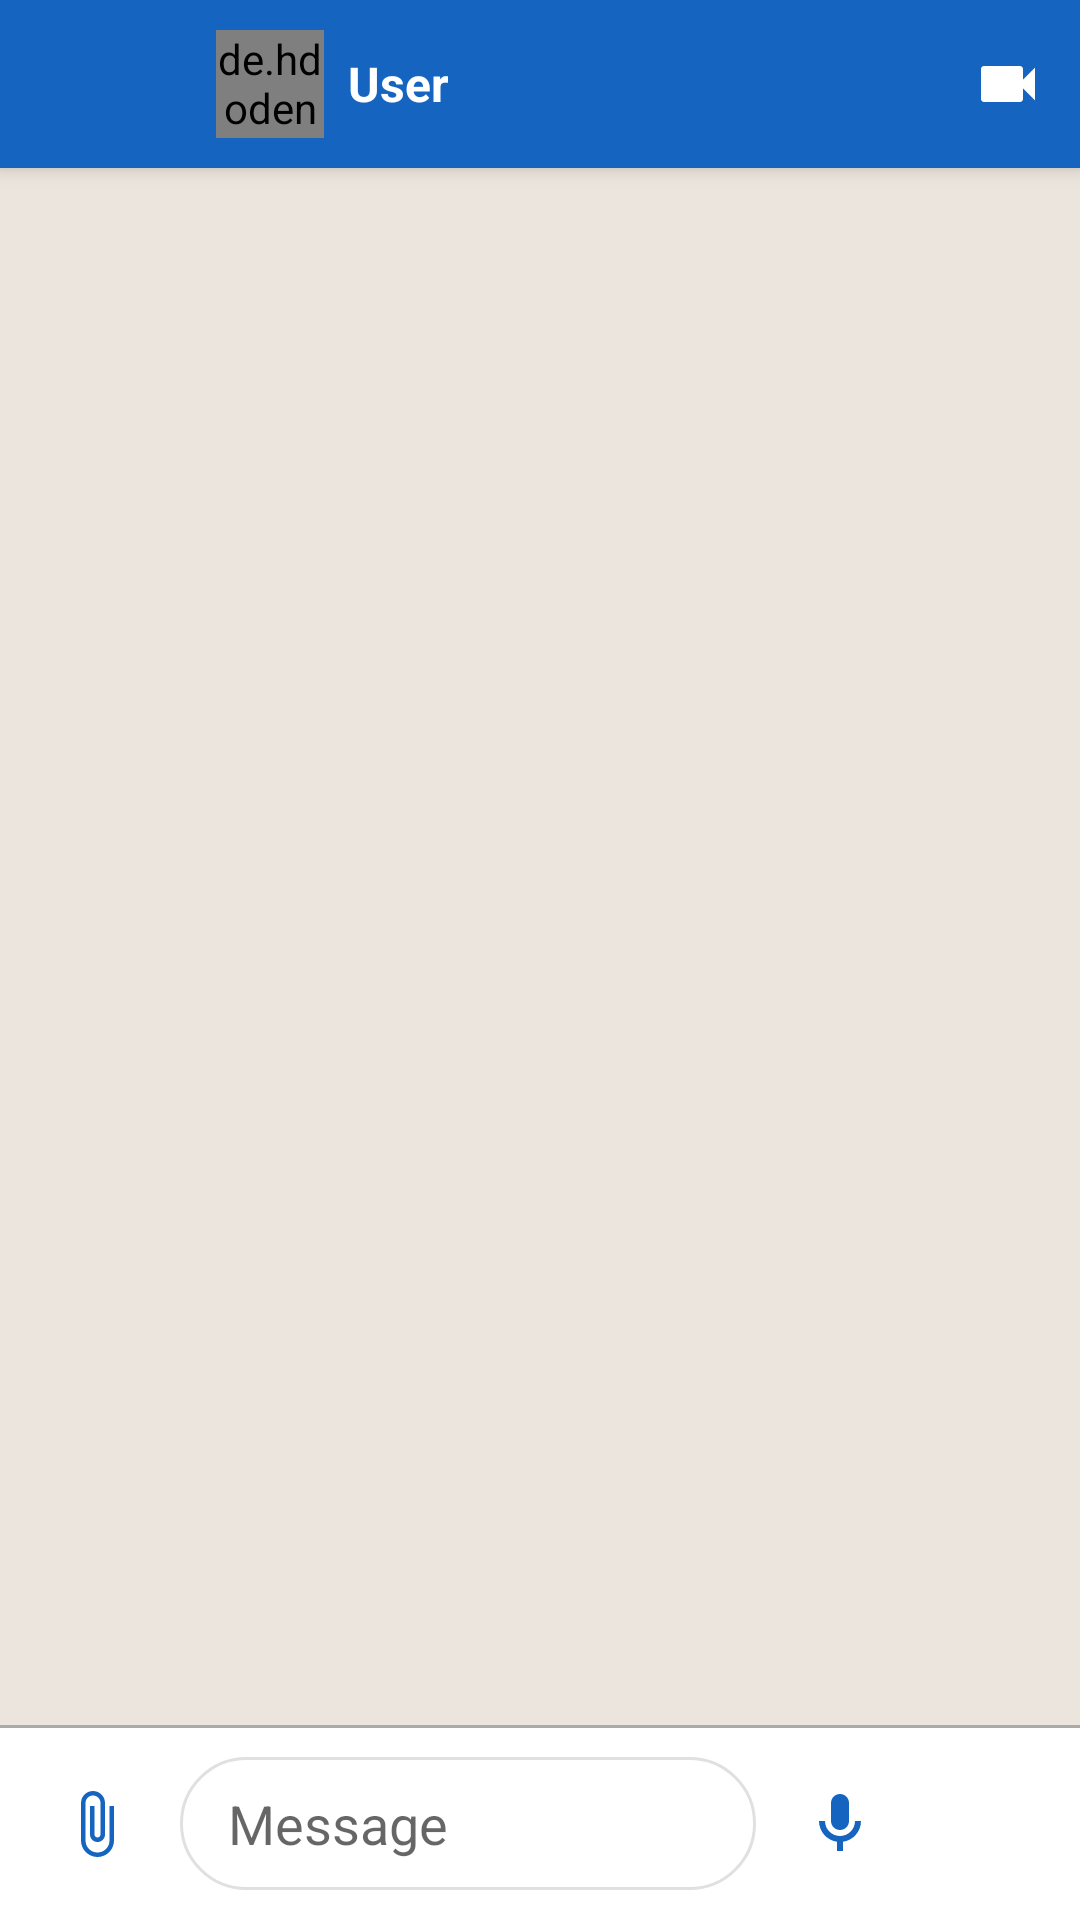

Named icons in this screenshot (1080px×1920px) and their bounding boxes, rect(x1, y1, x2, y2):
Attach file: rect(81, 1791, 114, 1857)
Video call: rect(981, 66, 1035, 102)
